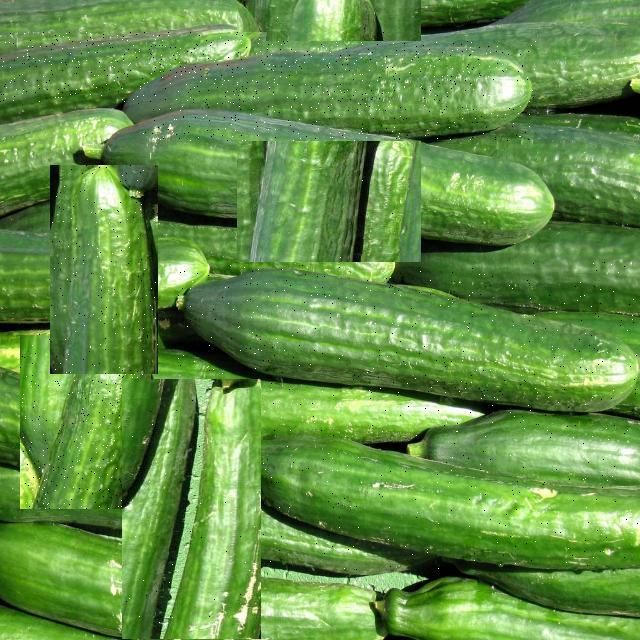Cucumber: (180, 272, 627, 406), (248, 433, 640, 572), (110, 43, 534, 139), (52, 165, 164, 383), (0, 523, 126, 626)
